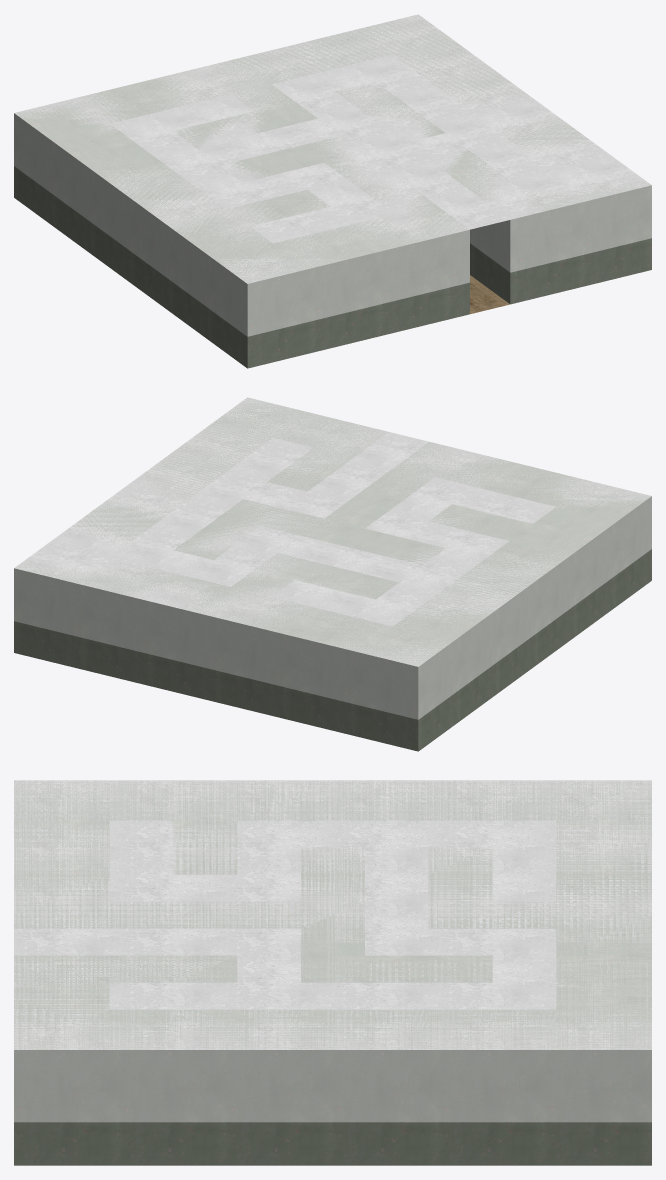
The model's file is Maze_HealthOffice.fbx.
3 views of the same model, one above another, from view 1: azimuth 30°, elevation 25°; view 2: azimuth 150°, elevation 25°; view 3: azimuth 270°, elevation 25° (orthographic). The views are drawn at different scales.
Visible parts, largest first — view 1: Maze_Walls, Maze_Ceiling, Maze_Floor; view 2: Maze_Walls, Maze_Ceiling; view 3: Maze_Walls, Maze_Ceiling.
Boxes of the visible parts, x1=… form: Maze_Walls: x1=14, y1=14, x2=651, y2=368; Maze_Ceiling: x1=14, y1=14, x2=651, y2=283; Maze_Floor: x1=470, y1=275, x2=509, y2=314; Maze_Walls: x1=14, y1=397, x2=651, y2=751; Maze_Ceiling: x1=14, y1=397, x2=651, y2=666; Maze_Walls: x1=14, y1=780, x2=651, y2=1165; Maze_Ceiling: x1=14, y1=780, x2=651, y2=1049.
Bounding box in the file's own units: 12 × 2.4 × 12.
